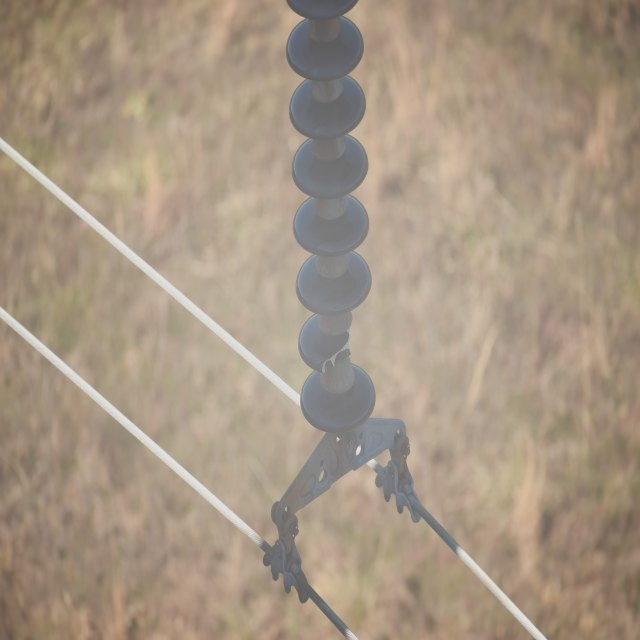broken: (314, 324, 355, 376)
insulator: (283, 0, 375, 436)
